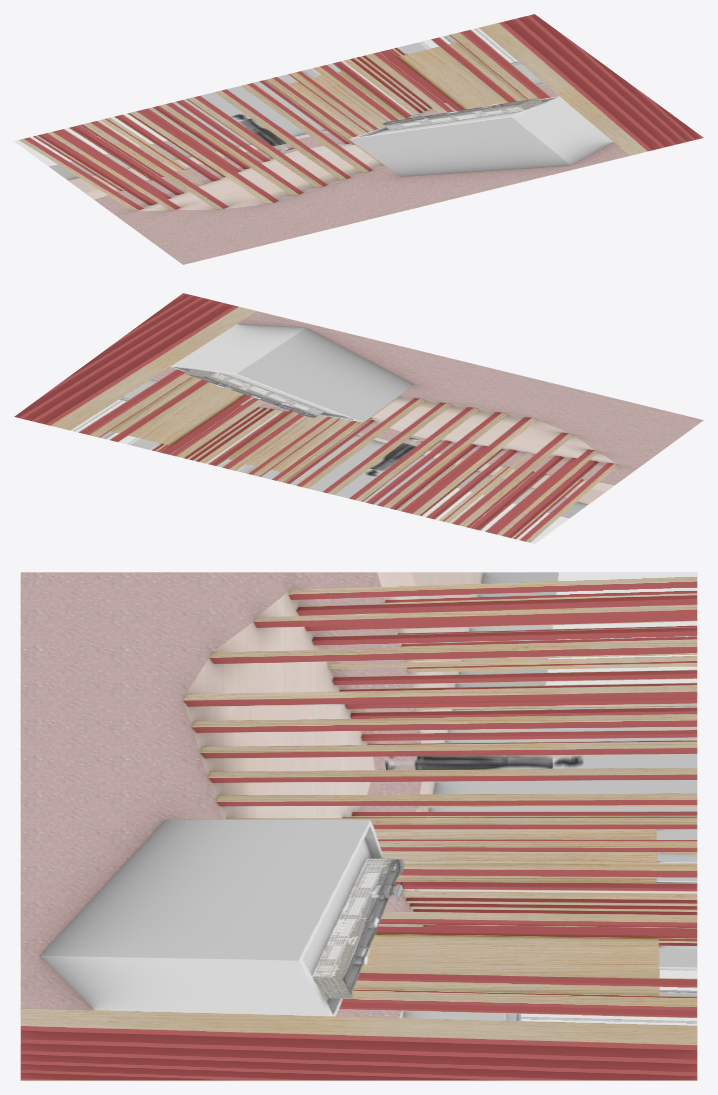
Rendered from fase4.obj.
3 renders of one model, top to bottom at view 1: azimuth 30°, elevation 25°; view 2: azimuth 150°, elevation 25°; view 3: azimuth 270°, elevation 25°, orthographic. The views are drawn at different scales.
Visible parts, largest first — view 1: Plane001; view 2: Plane001; view 3: Plane001.
Boxes of the visible parts, x1,y1,x2,y2 form: Plane001: [14, 14, 703, 264]; Plane001: [14, 293, 703, 543]; Plane001: [20, 572, 697, 1080].
Size of the model in its own units: 26.67 by 0 by 15.
